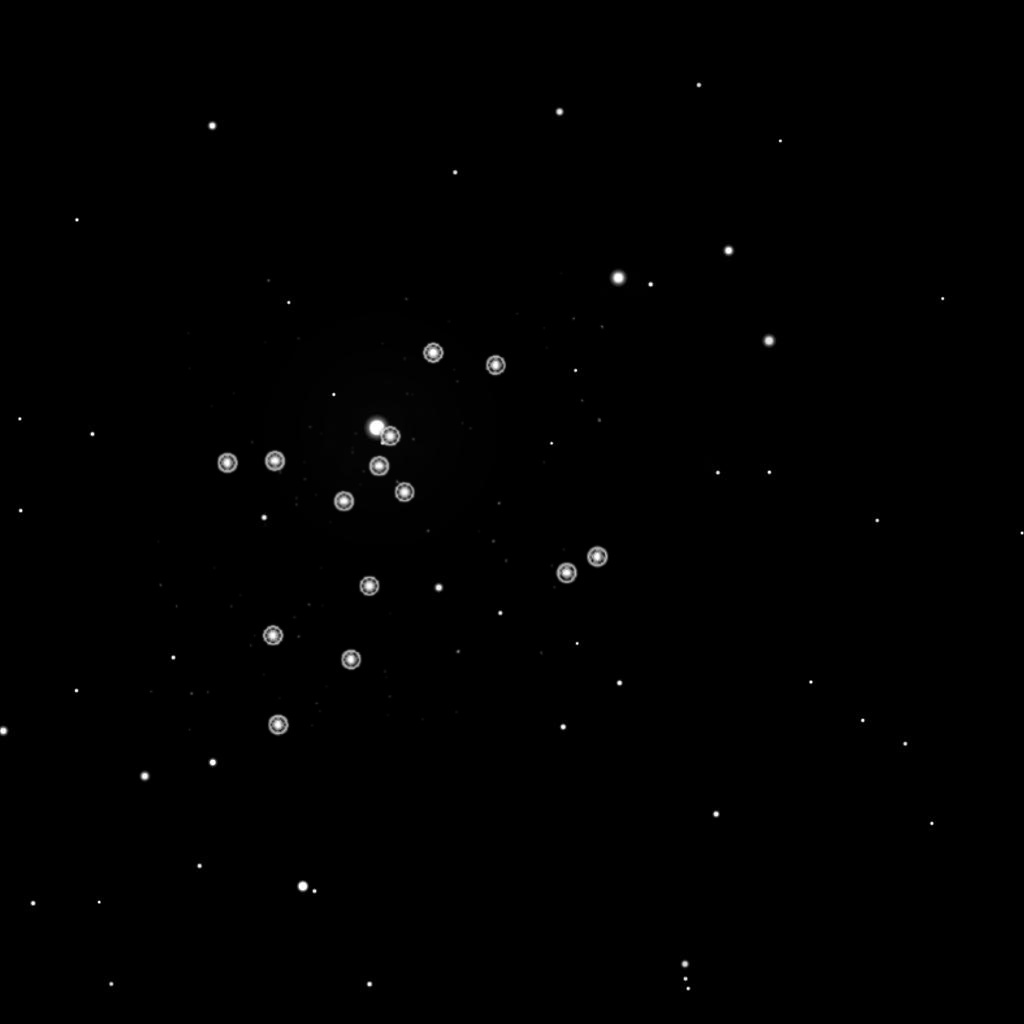canis_major: (326, 334, 514, 519)
